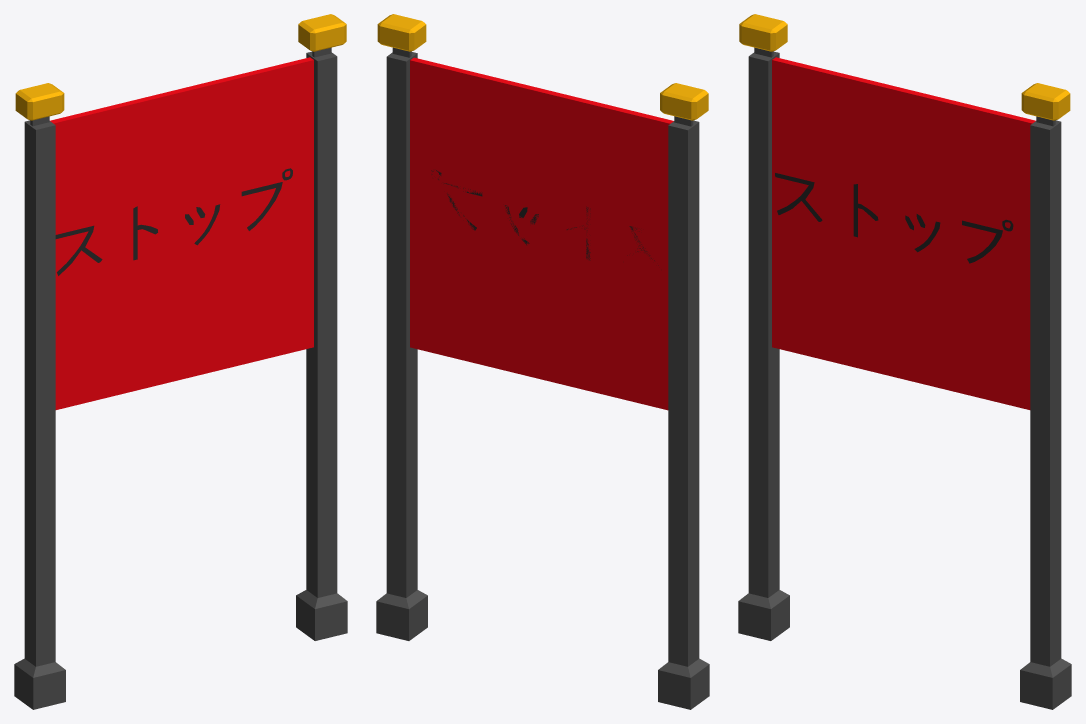
File: StopSign3.fbx
The picture shows the model from 3 angles, left to right: view 1: azimuth 30°, elevation 25°; view 2: azimuth 150°, elevation 25°; view 3: azimuth 330°, elevation 25°; orthographic projection.
Parts seen in each view (by area): view 1: Cube.003; view 2: Cube.003; view 3: Cube.003.
Part boxes in pixels (bbox=[...]): Cube.003: bbox=[14, 14, 347, 709]; Cube.003: bbox=[376, 14, 709, 709]; Cube.003: bbox=[738, 14, 1071, 709].
Bounding box in the file's own units: 167 × 305 × 17.14.
